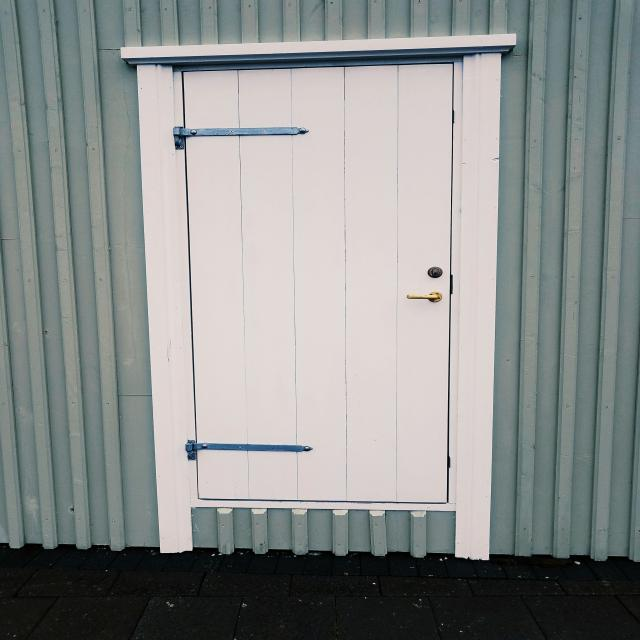door-handle: (406, 291, 442, 302)
